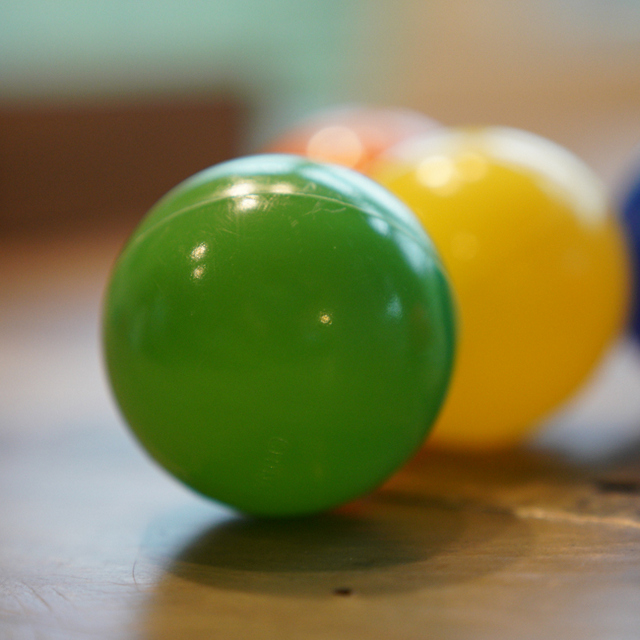Ball: (94, 150, 462, 525)
